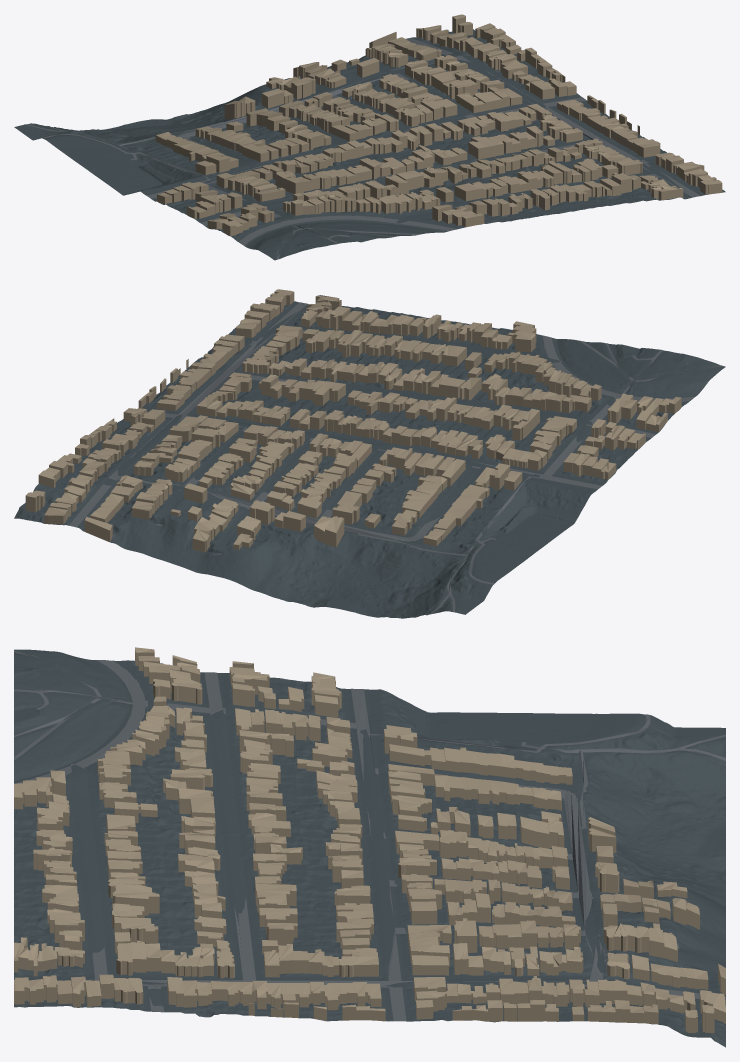
File: epsg26910-1435-10876.lod0.glb
3 views of the same model, one above another, from view 1: azimuth 30°, elevation 25°; view 2: azimuth 150°, elevation 25°; view 3: azimuth 270°, elevation 25° (orthographic). The views are drawn at different scales.
Visible parts, largest first — view 1: epsg26910-1435-10876-lod0; view 2: epsg26910-1435-10876-lod0; view 3: epsg26910-1435-10876-lod0.
Part boxes in pixels (box(x1,y1,x2,y2)): epsg26910-1435-10876-lod0: box(14, 14, 725, 260); epsg26910-1435-10876-lod0: box(14, 289, 725, 618); epsg26910-1435-10876-lod0: box(14, 647, 725, 1047).
Size of the model in its own units: 384 by 73.29 by 384.
